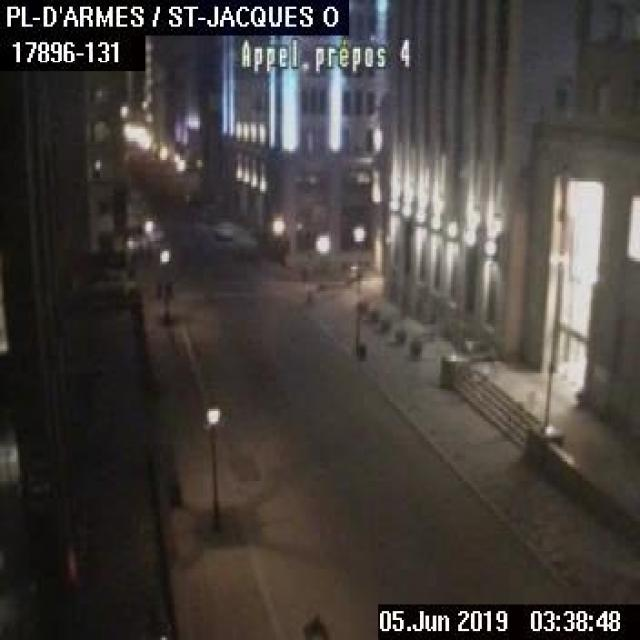vehicle: (214, 219, 233, 238)
